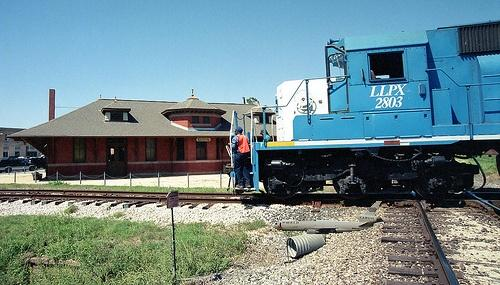tampered: (274, 202, 384, 234)
